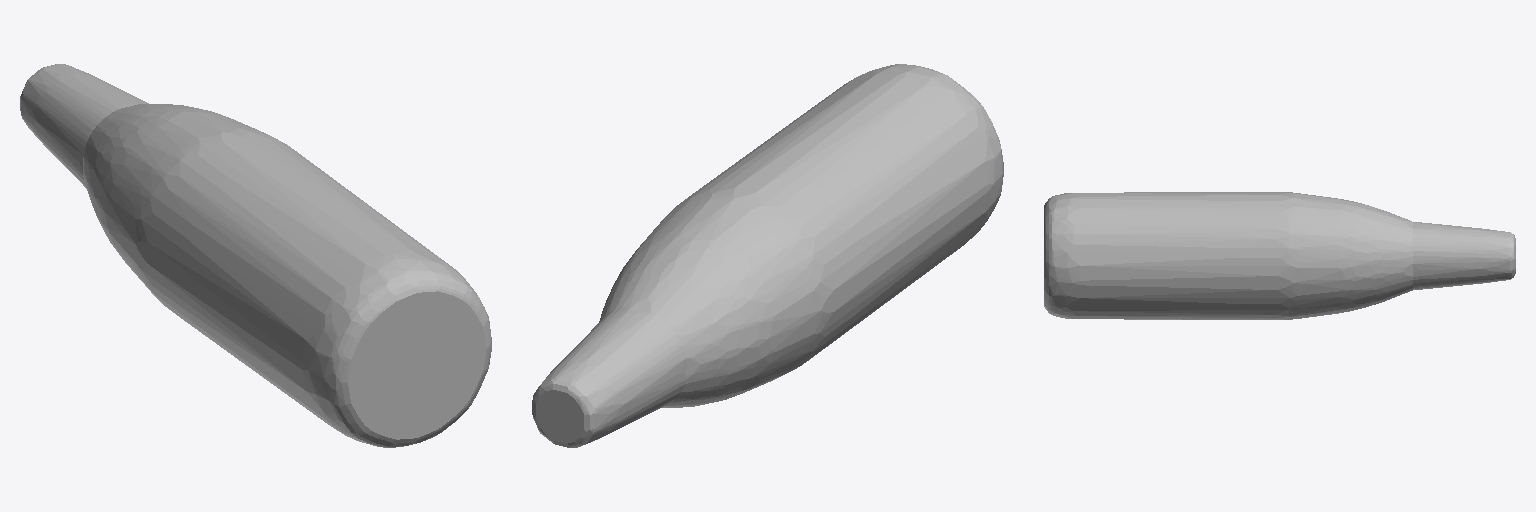
URDF robot description (root):
<?xml version="1.0"?>
<robot name="root">
  <link name="base_link">
    <visual>
      <origin xyz="0 0 0" rpy="0 0 0" />
      <geometry>
        <mesh filename="../meshes/unidex_core_bottle-3d758f0c11f01e3e3ddcd369aa279f39_008.obj" scale="1.0000E+00 1.0000E+00 1.0000E+00" />
      </geometry>
      <material name="">
        <color rgba="7.50E-01 7.50E-01 7.50E-01 1" />
      </material>
    </visual>
    <collision>
      <origin xyz="0 0 0" rpy="0 0 0" />
      <geometry>
        <mesh filename="../meshes/unidex_core_bottle-3d758f0c11f01e3e3ddcd369aa279f39_008.obj" scale="1.0000E+00 1.0000E+00 1.0000E+00" />
      </geometry>
    </collision>
  </link>
</robot>

--- Facts derived from the render (not from the file) ---
Views: 3 orthographic renders of the robot side by side, from view 1: azimuth 30°, elevation 25°; view 2: azimuth 150°, elevation 25°; view 3: azimuth 270°, elevation 25°.
Model root with 1 links and 0 joints (none), rooted at base_link, posed all joints at 0.
Visible links, largest first — view 1: base_link; view 2: base_link; view 3: base_link.
Boxes of the visible links, left/top/right/bottom form: base_link: left=20, top=64, right=491, bottom=447; base_link: left=532, top=64, right=1003, bottom=447; base_link: left=1044, top=192, right=1515, bottom=319.
Bounding box of the posed robot: 0.0416 × 0.1532 × 0.0416 m (x, y, z).
1 mesh visuals loaded from 1 distinct referenced files (1 OBJ).
